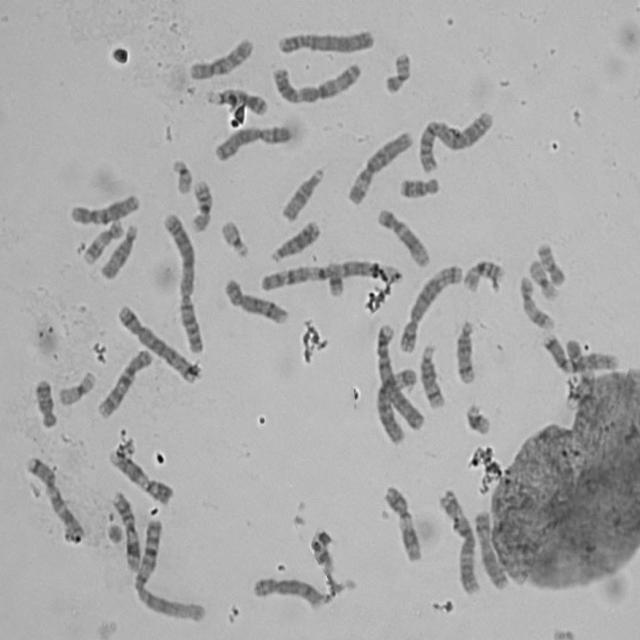A1: (130, 516, 208, 624), (257, 256, 398, 293)
A2: (159, 208, 206, 356), (415, 106, 496, 174)
A3: (436, 484, 481, 596), (269, 58, 364, 105)
B4: (374, 318, 427, 432), (273, 26, 376, 56)
B5: (113, 299, 201, 385), (396, 258, 464, 354)
C10: (93, 344, 155, 422), (184, 33, 256, 82)
C11: (380, 481, 424, 564), (108, 488, 142, 573)
C12: (374, 204, 432, 269), (66, 189, 142, 226)
C6: (344, 126, 416, 206), (372, 365, 420, 446)
C7: (22, 450, 87, 540), (540, 329, 620, 374)
C8: (221, 274, 291, 326), (249, 571, 326, 611)
C9: (106, 446, 175, 506), (561, 338, 593, 409)
D13: (267, 216, 322, 264), (203, 84, 269, 117)
D14: (417, 340, 447, 410), (452, 315, 478, 386)
D15: (279, 162, 326, 224), (97, 220, 139, 281)
E16: (460, 254, 506, 294), (188, 175, 215, 234)
E17: (516, 272, 556, 331), (79, 216, 126, 266)
E18: (30, 374, 60, 431), (396, 172, 442, 200)
F19: (55, 366, 98, 408), (525, 255, 560, 302)
F20: (533, 238, 567, 286), (382, 47, 414, 95)
G21: (462, 399, 493, 436), (325, 260, 345, 298)
G22: (218, 216, 251, 259), (168, 154, 194, 196)
X: (210, 119, 294, 163), (472, 506, 512, 592)
